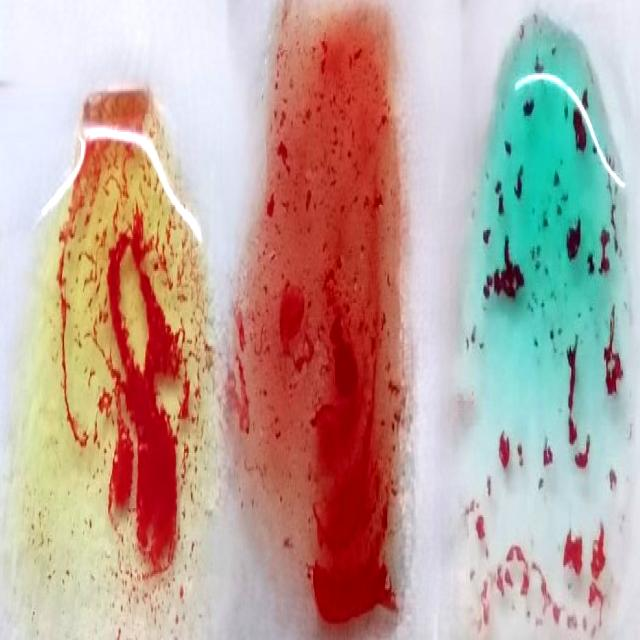A: (486, 12, 629, 640)
B: (52, 103, 207, 632)
D: (256, 12, 413, 640)
